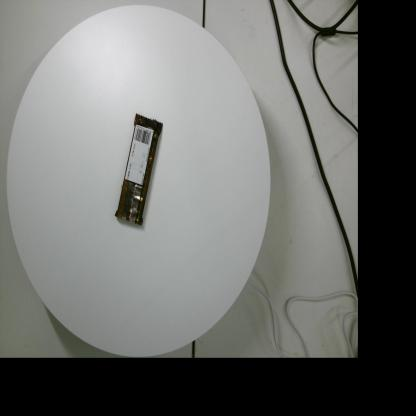Chocolate: (114, 113, 163, 226)
